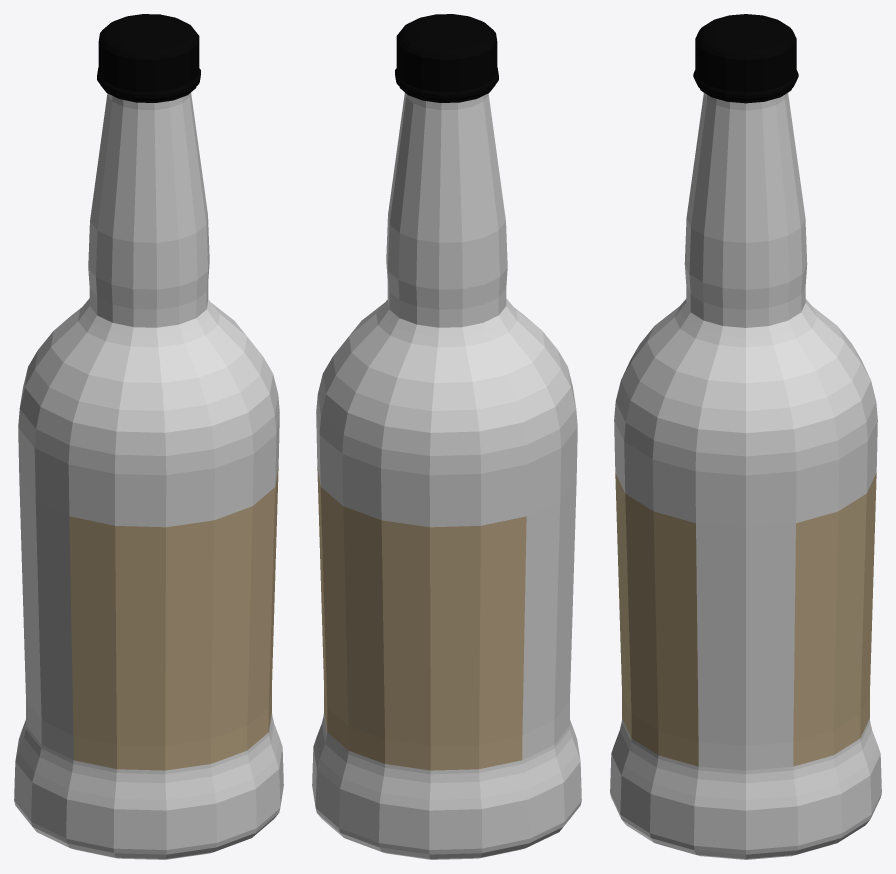
Rendered from Bottle_5_Empty.fbx.
3 renders of one model, left to right at view 1: azimuth 30°, elevation 25°; view 2: azimuth 150°, elevation 25°; view 3: azimuth 270°, elevation 25°, orthographic.
Visible parts, largest first — view 1: Bottle5_Empty; view 2: Bottle5_Empty; view 3: Bottle5_Empty.
Boxes of the visible parts, x1=… form: Bottle5_Empty: x1=14, y1=14, x2=283, y2=859; Bottle5_Empty: x1=312, y1=14, x2=581, y2=859; Bottle5_Empty: x1=610, y1=14, x2=881, y2=859.
Bounding box in the file's own units: 33.83 × 107 × 33.83.
